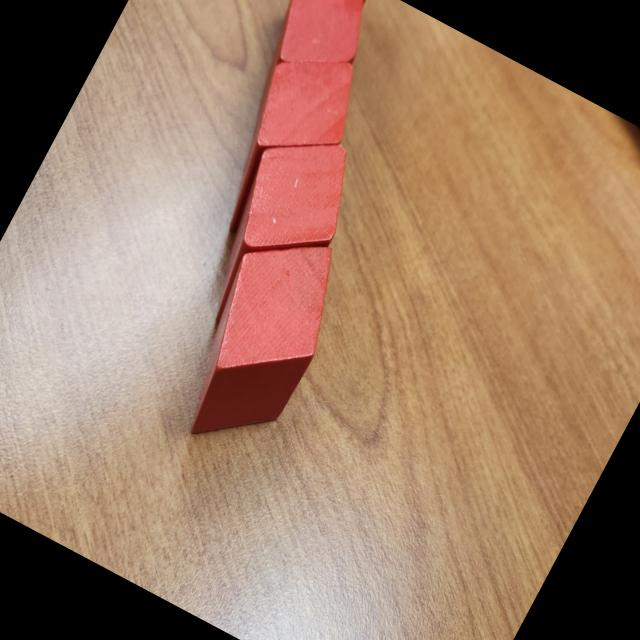red: (152, 211, 362, 471), (180, 113, 377, 355), (193, 31, 374, 258), (248, 0, 384, 118), (278, 0, 372, 35)
